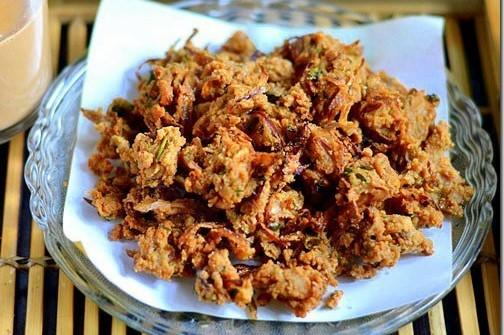Chai: (0, 0, 51, 132)
OnionPakoda: (79, 28, 471, 315)
